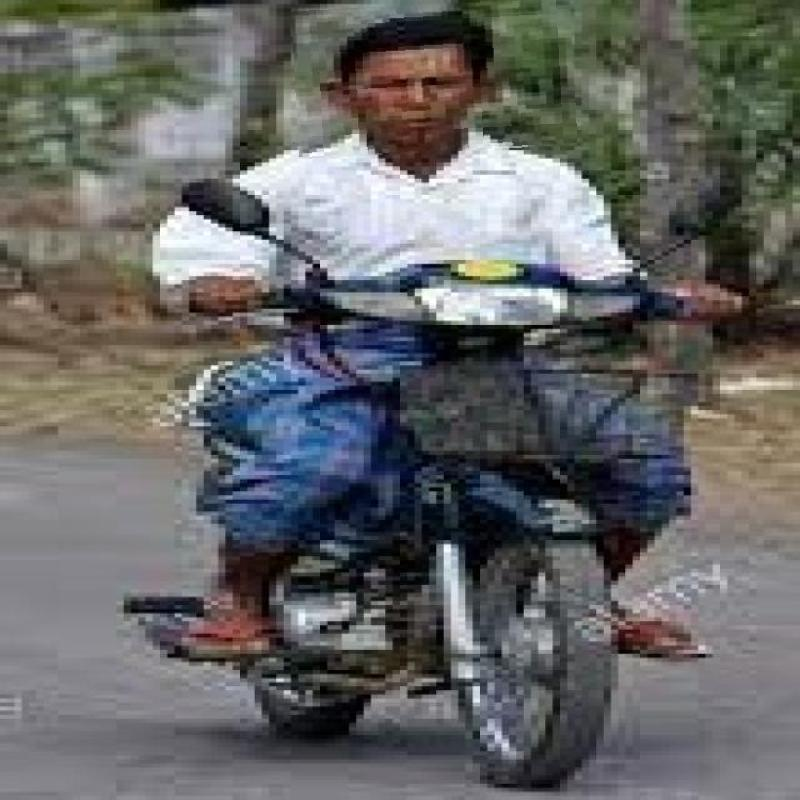nohelmet: (293, 1, 576, 156)
